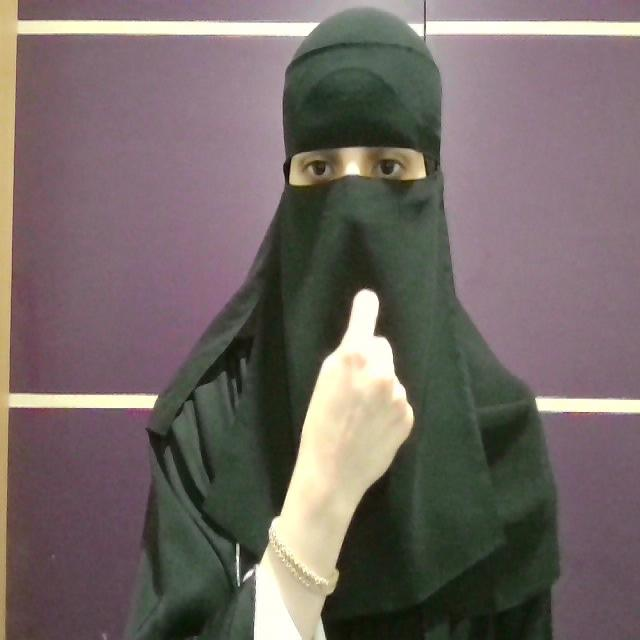medicine: (288, 276, 452, 578)
